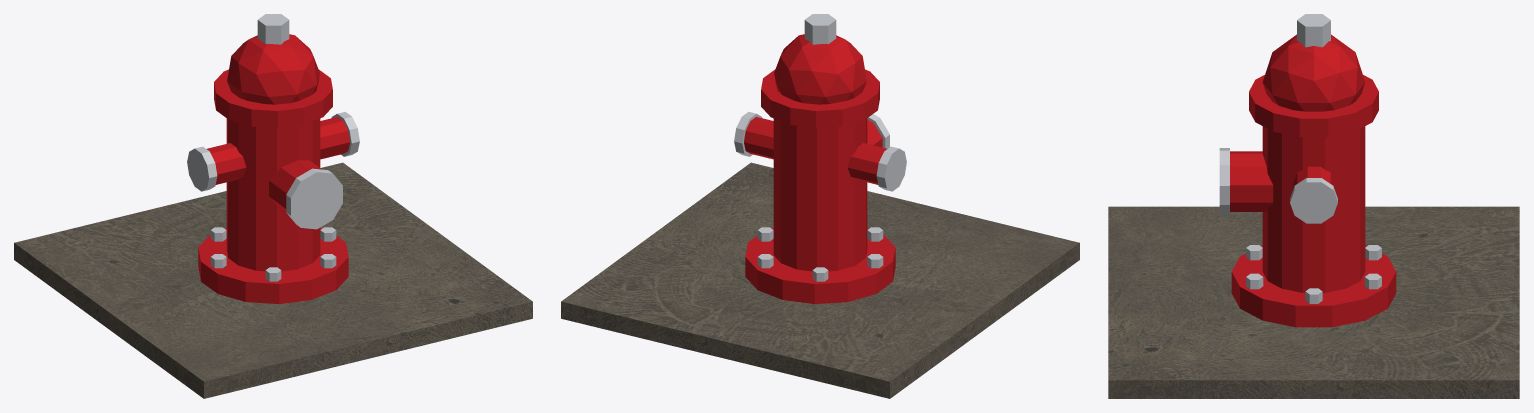
File: OT_Hydrant.glb
The picture shows the model from 3 angles, left to right: view 1: azimuth 30°, elevation 25°; view 2: azimuth 150°, elevation 25°; view 3: azimuth 270°, elevation 25°; orthographic projection. The views are drawn at different scales.
Parts seen in each view (by area): view 1: OT_Hydrant_Sidewalk, OT_Hydrant_HydrantRed__c4161d, OT_Hydrant_HydrantCap__c9ccd1; view 2: OT_Hydrant_Sidewalk, OT_Hydrant_HydrantRed__c4161d, OT_Hydrant_HydrantCap__c9ccd1; view 3: OT_Hydrant_Sidewalk, OT_Hydrant_HydrantRed__c4161d, OT_Hydrant_HydrantCap__c9ccd1.
Part boxes in pixels (box(x1,y1,x2,y2)): OT_Hydrant_Sidewalk: box(14, 162, 532, 398); OT_Hydrant_HydrantRed__c4161d: box(198, 34, 349, 303); OT_Hydrant_HydrantCap__c9ccd1: box(187, 14, 359, 281); OT_Hydrant_Sidewalk: box(561, 162, 1079, 398); OT_Hydrant_HydrantRed__c4161d: box(744, 34, 895, 303); OT_Hydrant_HydrantCap__c9ccd1: box(734, 14, 906, 281); OT_Hydrant_Sidewalk: box(1108, 206, 1519, 398); OT_Hydrant_HydrantRed__c4161d: box(1230, 34, 1396, 327); OT_Hydrant_HydrantCap__c9ccd1: box(1219, 14, 1381, 303).
Bounding box in the file's own units: 1.2 × 0.94 × 1.2.
3 materials, 1 textured.
